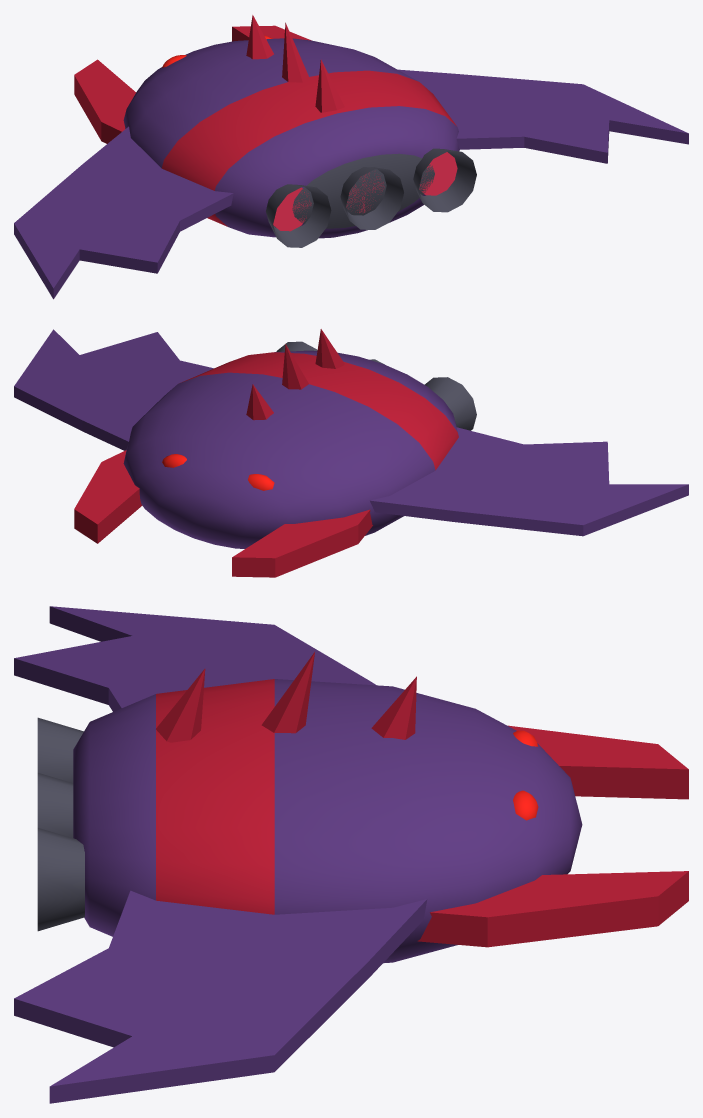
Rendered from enemigo.obj.
3 views of the same model, one above another, from view 1: azimuth 30°, elevation 25°; view 2: azimuth 150°, elevation 25°; view 3: azimuth 270°, elevation 25° (orthographic). The views are drawn at different scales.
Parts seen in each view (by area): view 1: NaveEnemiga; view 2: NaveEnemiga; view 3: NaveEnemiga.
Part boxes in pixels (bbox=[...]): NaveEnemiga: bbox=[14, 15, 688, 299]; NaveEnemiga: bbox=[14, 329, 688, 577]; NaveEnemiga: bbox=[14, 606, 688, 1103].
Bounding box in the file's own units: 4.8 × 1.28 × 2.85.
